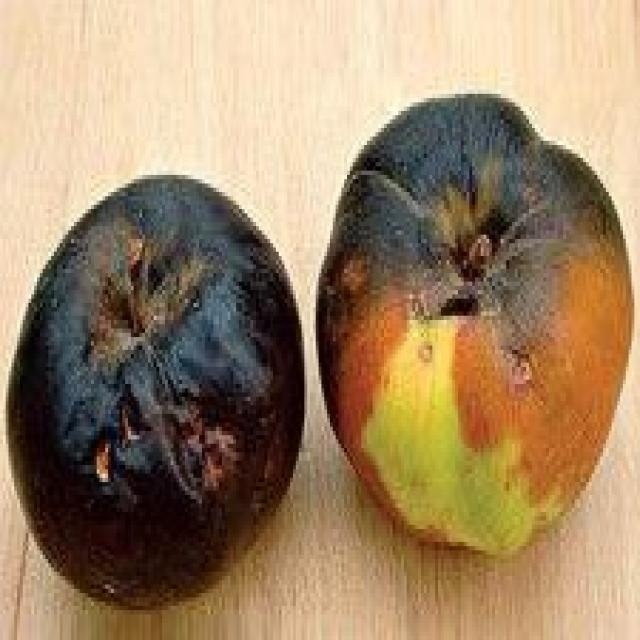Rotten: (321, 88, 640, 559), (29, 197, 298, 608)
